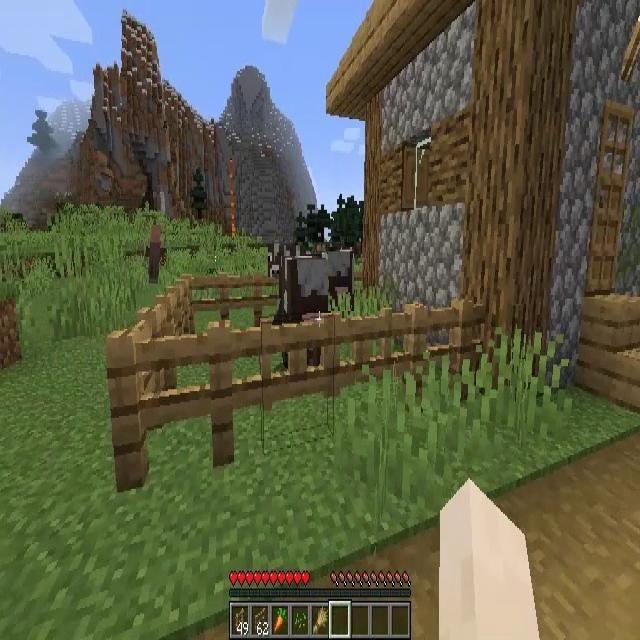cow: (266, 245, 333, 372), (328, 248, 354, 312)
people: (144, 223, 166, 286)
